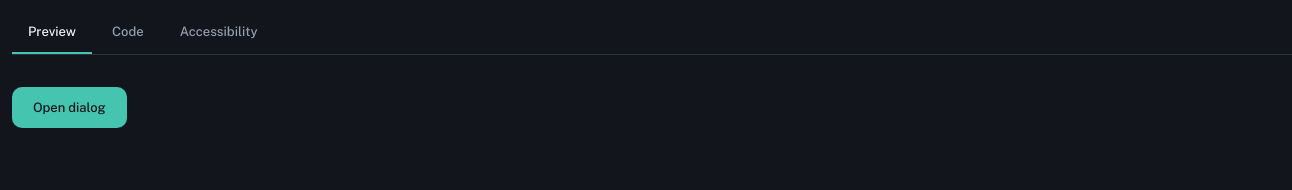
Test: DialogDoc › switches to the Code tab and shows a Dialog snippet
This screenshot has width=1292, height=190.
Step 1. Click the tab "Code" → [128, 33], box [96,12,160,54]
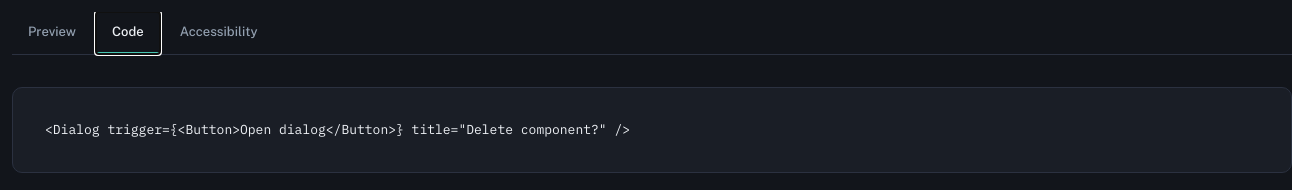
expect the text "title=\"Delete component?\"" is shown: met, box [45,120,630,138]
